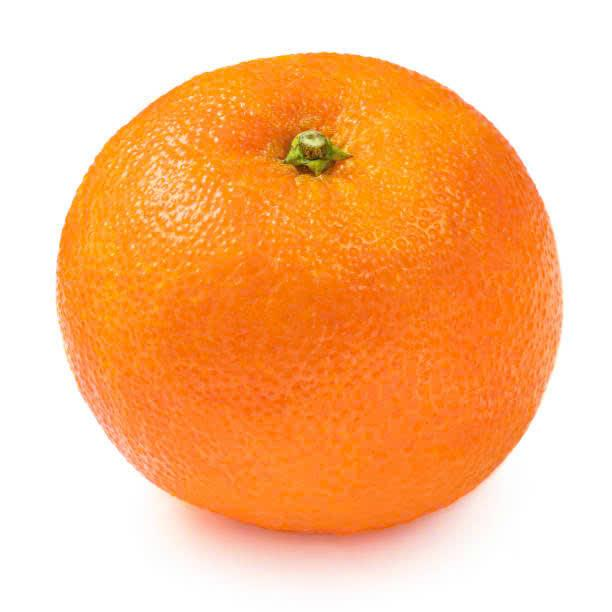orange: (50, 50, 573, 553)
